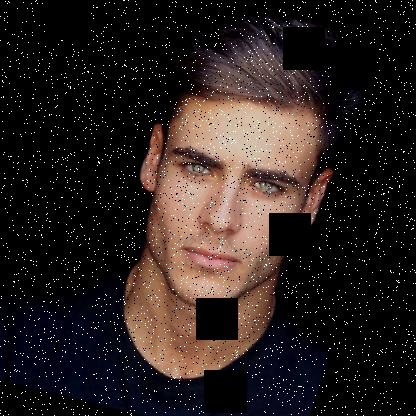Male: (107, 74, 353, 324)
